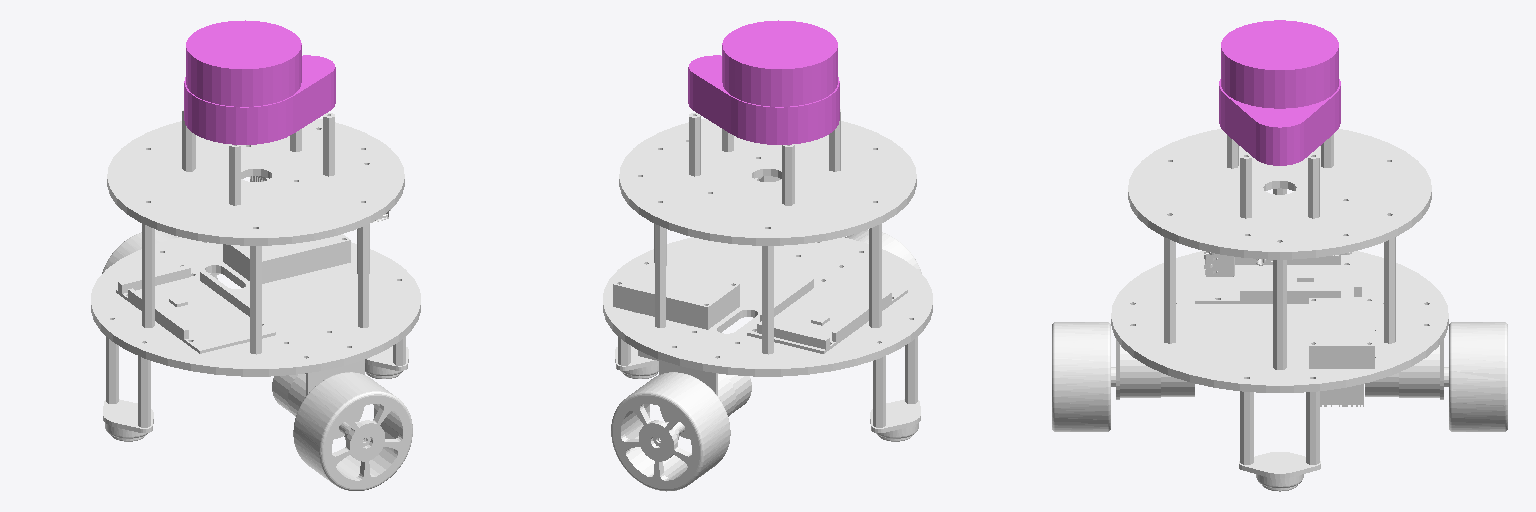
The robot description file, URDF, robot "urdf_model2":
<?xml version="1.0" encoding="utf-8"?>
<!-- This URDF was automatically created by SolidWorks to URDF Exporter! Originally created by [author] ([email redacted]) 
     Commit Version: 1.5.1-0-g916b5db  Build Version: 1.5.7152.31018
     For more information, please see http://wiki.ros.org/sw_urdf_exporter -->
<robot
  name="urdf_model2">
  <link
    name="base_link">
    <inertial>
      <origin
        xyz="0.00416583214490639 0.00334298647366014 0.0223458386073551"
        rpy="0 0 0" />
      <mass
        value="0.497237047742587" />
      <inertia
        ixx="0.00242007739262166"
        ixy="-5.04911668703256E-05"
        ixz="-2.20582761355493E-05"
        iyy="0.00191108488366341"
        iyz="3.13922136203839E-05"
        izz="0.00237712248678461" />
    </inertial>
    <visual>
      <origin
        xyz="0 0 0"
        rpy="0 0 0" />
      <geometry>
        <mesh
          filename="package://urdf_model2/meshes/base_link.STL" />
      </geometry>
      <material
        name="">
        <color
          rgba="1 1 1 1" />
      </material>
    </visual>
    <collision>
      <origin
        xyz="0 0 0"
        rpy="0 0 0" />
      <geometry>
        <mesh
          filename="package://urdf_model2/meshes/base_link.STL" />
      </geometry>
    </collision>
  </link>
  <link
    name="right_back_Link">
    <inertial>
      <origin
        xyz="8.01009954104983E-19 0.0163136700350873 1.38777878078145E-17"
        rpy="0 0 0" />
      <mass
        value="0.051613375509701" />
      <inertia
        ixx="2.56908774007063E-05"
        ixy="-4.11315298977877E-22"
        ixz="-4.19191344921327E-21"
        iyy="4.02847693747286E-05"
        iyz="6.95741622935505E-21"
        izz="2.56908774007063E-05" />
    </inertial>
    <visual>
      <origin
        xyz="0 0 0"
        rpy="0 0 0" />
      <geometry>
        <mesh
          filename="package://urdf_model2/meshes/right_back_Link.STL" />
      </geometry>
      <material
        name="">
        <color
          rgba="1 1 1 1" />
      </material>
    </visual>
    <collision>
      <origin
        xyz="0 0 0"
        rpy="0 0 0" />
      <geometry>
        <mesh
          filename="package://urdf_model2/meshes/right_back_Link.STL" />
      </geometry>
    </collision>
  </link>
  <joint
    name="right_back_Joint"
    type="continuous">
    <origin
      xyz="2.5042E-05 -0.13429 -0.035879"
      rpy="0 0 0" />
    <parent
      link="base_link" />
    <child
      link="right_back_Link" />
    <axis
      xyz="0 1 0" />
  </joint>
  <link
    name="left_back_Link">
    <inertial>
      <origin
        xyz="1.49306791227925E-17 -0.0163136700350873 0"
        rpy="0 0 0" />
      <mass
        value="0.051613375509701" />
      <inertia
        ixx="2.56908774007063E-05"
        ixy="-6.47543362775456E-21"
        ixz="1.75876854363387E-21"
        iyy="4.02847693747286E-05"
        iyz="-5.23630323142531E-22"
        izz="2.56908774007063E-05" />
    </inertial>
    <visual>
      <origin
        xyz="0 0 0"
        rpy="0 0 0" />
      <geometry>
        <mesh
          filename="package://urdf_model2/meshes/left_back_Link.STL" />
      </geometry>
      <material
        name="">
        <color
          rgba="1 1 1 1" />
      </material>
    </visual>
    <collision>
      <origin
        xyz="0 0 0"
        rpy="0 0 0" />
      <geometry>
        <mesh
          filename="package://urdf_model2/meshes/left_back_Link.STL" />
      </geometry>
    </collision>
  </link>
  <joint
    name="left_back_Link"
    type="continuous">
    <origin
      xyz="2.5042E-05 0.13548 -0.035879"
      rpy="0 0 0" />
    <parent
      link="base_link" />
    <child
      link="left_back_Link" />
    <axis
      xyz="0 -1 0" />
  </joint>
  <link
    name="front_Link">
    <inertial>
      <origin
        xyz="1.38777878078145E-17 -7.43210141389101E-19 0.00483772824568677"
        rpy="0 0 0" />
      <mass
        value="0.00917157149725227" />
      <inertia
        ixx="7.85302309096545E-07"
        ixy="1.41004767578906E-23"
        ixz="-1.06421004245823E-22"
        iyy="5.86870736858524E-07"
        iyz="2.45652027002629E-23"
        izz="1.04386382786075E-06" />
    </inertial>
    <visual>
      <origin
        xyz="0 0 0"
        rpy="0 0 0" />
      <geometry>
        <mesh
          filename="package://urdf_model2/meshes/front_Link.STL" />
      </geometry>
      <material
        name="">
        <color
          rgba="1 1 1 1" />
      </material>
    </visual>
    <collision>
      <origin
        xyz="0 0 0"
        rpy="0 0 0" />
      <geometry>
        <mesh
          filename="package://urdf_model2/meshes/front_Link.STL" />
      </geometry>
    </collision>
  </link>
  <joint
    name="front_Joint"
    type="fixed">
    <origin
      xyz="0.08904 0.0005946 -0.06138"
      rpy="0 0 0" />
    <parent
      link="base_link" />
    <child
      link="front_Link" />
    <axis
      xyz="0 0 0" />
  </joint>
  <link
    name="back_Link">
    <inertial>
      <origin
        xyz="-1.38777878078145E-17 7.54483844766988E-19 0.00483772824568677"
        rpy="0 0 0" />
      <mass
        value="0.00917157149725227" />
      <inertia
        ixx="7.85302309096545E-07"
        ixy="9.56059249342909E-24"
        ixz="1.07228797812769E-22"
        iyy="5.86870736858523E-07"
        iyz="-2.75940783536062E-23"
        izz="1.04386382786075E-06" />
    </inertial>
    <visual>
      <origin
        xyz="0 0 0"
        rpy="0 0 0" />
      <geometry>
        <mesh
          filename="package://urdf_model2/meshes/back_Link.STL" />
      </geometry>
      <material
        name="">
        <color
          rgba="1 1 1 1" />
      </material>
    </visual>
    <collision>
      <origin
        xyz="0 0 0"
        rpy="0 0 0" />
      <geometry>
        <mesh
          filename="package://urdf_model2/meshes/back_Link.STL" />
      </geometry>
    </collision>
  </link>
  <joint
    name="back_Joint"
    type="fixed">
    <origin
      xyz="-0.08899 0.0005946 -0.06138"
      rpy="0 0 0" />
    <parent
      link="base_link" />
    <child
      link="back_Link" />
    <axis
      xyz="0 0 0" />
  </joint>
  <link
    name="lidar_Link">
    <inertial>
      <origin
        xyz="0.0047653512142667 -7.15299029481579E-18 -0.0266646350931545"
        rpy="0 0 0" />
      <mass
        value="0.222049626794912" />
      <inertia
        ixx="0.000111883049646601"
        ixy="2.88697365741403E-21"
        ixz="1.14462961585253E-05"
        iyy="0.00015129492917208"
        iyz="-3.71706446829591E-22"
        izz="0.000171930315958033" />
    </inertial>
    <visual>
      <origin
        xyz="0 0 0"
        rpy="0 0 0" />
      <geometry>
        <mesh
          filename="package://urdf_model2/meshes/lidar_Link.STL" />
      </geometry>
      <material
        name="">
        <color
          rgba="1 0.501960784313725 1 1" />
      </material>
    </visual>
    <collision>
      <origin
        xyz="0 0 0"
        rpy="0 0 0" />
      <geometry>
        <mesh
          filename="package://urdf_model2/meshes/lidar_Link.STL" />
      </geometry>
    </collision>
  </link>
  <joint
    name="lidar_Joint"
    type="fixed">
    <origin
      xyz="-0.008475 0.0005946 0.1766"
      rpy="0 0 0" />
    <parent
      link="base_link" />
    <child
      link="lidar_Link" />
    <axis
      xyz="0 0 1" />
  </joint>
</robot>

--- Facts derived from the render (not from the file) ---
Views: 3 orthographic renders of the robot side by side, from view 1: azimuth 30°, elevation 25°; view 2: azimuth 150°, elevation 25°; view 3: azimuth 270°, elevation 25°.
Robot: urdf_model2 — 6 links, 5 joints (2 continuous, 3 fixed); root link base_link; default pose: all joints at 0.
Visible links, largest first — view 1: base_link, lidar_Link, right_back_Link, back_Link, front_Link, left_back_Link; view 2: base_link, lidar_Link, left_back_Link, back_Link, front_Link, right_back_Link; view 3: base_link, lidar_Link, right_back_Link, left_back_Link, front_Link.
Boxes of the visible links, left/top/right/bottom form: base_link: left=91, top=110, right=420, bottom=441; lidar_Link: left=184, top=20, right=335, bottom=144; right_back_Link: left=293, top=372, right=412, bottom=490; back_Link: left=103, top=399, right=153, bottom=441; front_Link: left=365, top=346, right=408, bottom=378; left_back_Link: left=102, top=230, right=217, bottom=279; base_link: left=603, top=109, right=932, bottom=441; lidar_Link: left=688, top=20, right=839, bottom=144; left_back_Link: left=611, top=372, right=730, bottom=491; back_Link: left=870, top=399, right=920, bottom=441; front_Link: left=615, top=346, right=658, bottom=378; right_back_Link: left=845, top=230, right=921, bottom=273; base_link: left=1111, top=129, right=1448, bottom=464; lidar_Link: left=1219, top=20, right=1340, bottom=165; right_back_Link: left=1052, top=322, right=1110, bottom=431; left_back_Link: left=1449, top=322, right=1507, bottom=431; front_Link: left=1239, top=452, right=1320, bottom=491.
Size in the robot's own frame: 0.209 by 0.2698 by 0.245 metres.
6 mesh visuals loaded from 6 distinct referenced files (6 binary STL).